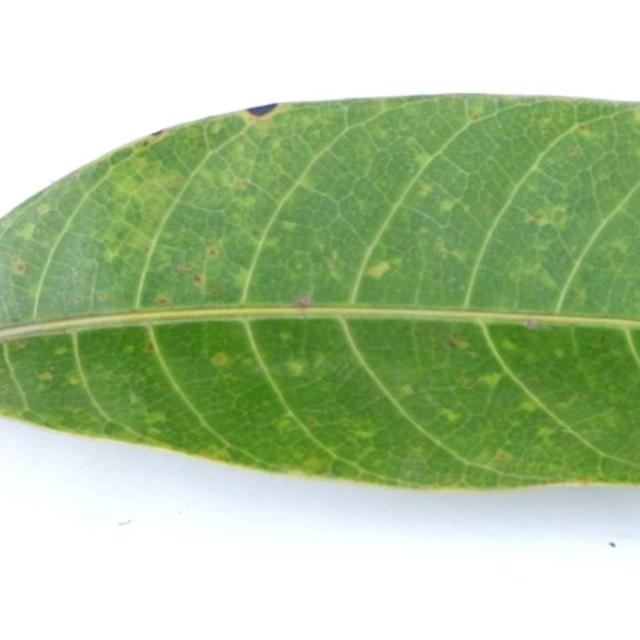Mango: (0, 95, 639, 486)
Powdery_Mildew: (133, 167, 183, 201), (354, 255, 407, 284), (531, 203, 573, 230), (527, 265, 560, 293), (238, 105, 279, 124), (232, 266, 255, 289), (323, 251, 343, 275), (102, 244, 123, 265), (16, 221, 37, 241), (446, 247, 469, 265), (609, 236, 631, 254), (236, 193, 259, 210), (478, 372, 502, 388), (446, 334, 470, 350), (285, 359, 306, 377), (4, 333, 33, 346), (145, 409, 168, 425), (10, 256, 28, 276), (439, 408, 461, 424), (191, 272, 209, 291), (517, 399, 541, 413), (412, 150, 433, 166), (438, 198, 458, 214), (275, 417, 295, 433), (307, 456, 327, 471), (353, 427, 376, 440), (534, 425, 556, 438), (211, 352, 230, 367), (499, 337, 518, 352), (260, 236, 279, 251), (294, 294, 314, 308), (417, 182, 435, 197), (64, 372, 82, 386), (153, 293, 171, 307), (279, 220, 298, 233), (468, 106, 485, 120), (94, 291, 113, 303), (35, 202, 51, 216), (206, 283, 222, 297), (174, 262, 193, 273), (206, 245, 220, 259), (234, 178, 250, 190), (36, 371, 53, 382), (401, 383, 415, 396), (495, 451, 510, 463), (128, 391, 141, 404), (53, 345, 68, 356), (523, 318, 538, 328), (149, 129, 165, 138), (553, 348, 566, 359), (122, 344, 135, 354), (278, 331, 292, 340), (532, 212, 543, 222), (577, 123, 589, 132), (192, 274, 202, 283)
